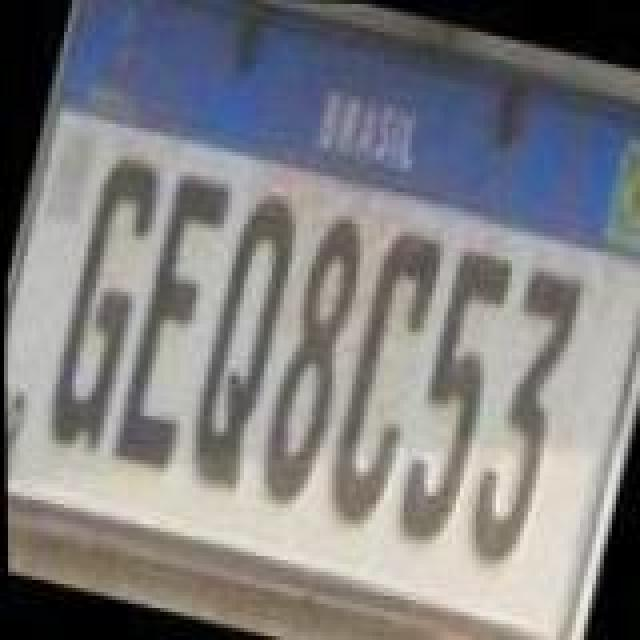3: (454, 260, 586, 568)
5: (384, 240, 516, 552)
8: (238, 206, 374, 514)
C: (308, 220, 448, 536)
E: (102, 162, 242, 474)
G: (30, 142, 170, 458)
Q: (172, 182, 308, 494)
